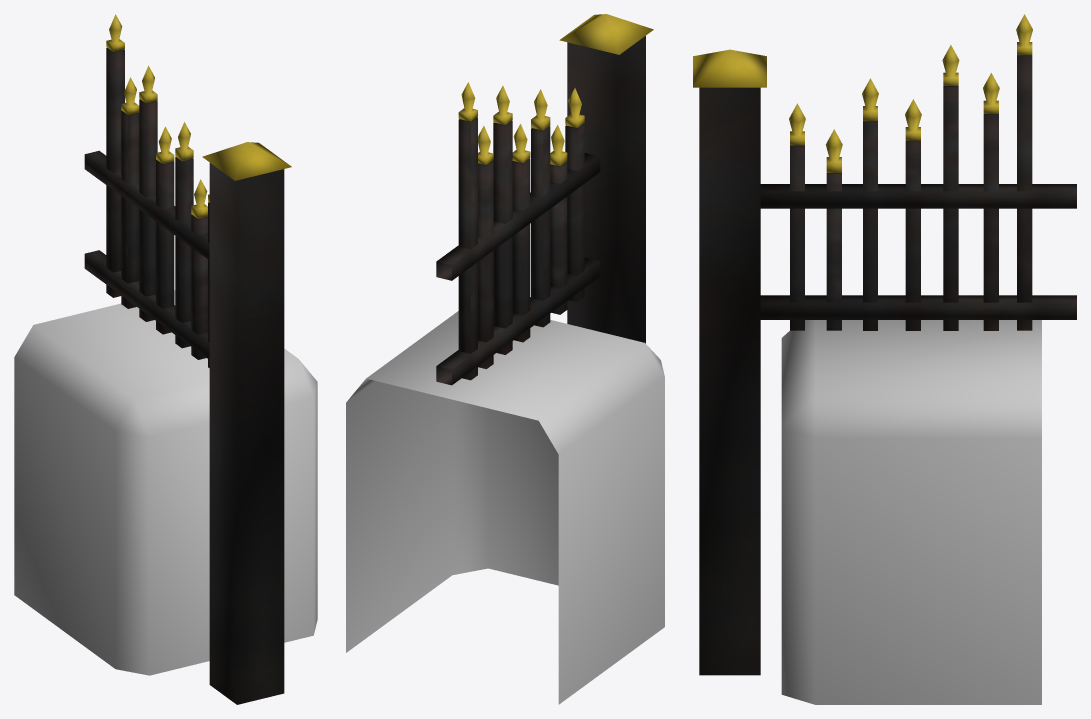
Rendered from StoneMetalWall1.fbx.
3 views of the same model, side by side, from view 1: azimuth 30°, elevation 25°; view 2: azimuth 150°, elevation 25°; view 3: azimuth 270°, elevation 25° (orthographic). The views are drawn at different scales.
Parts seen in each view (by area): view 1: StoneMetal_Corner; view 2: StoneMetal_Corner; view 3: StoneMetal_Corner.
Part boxes in pixels (<box>): StoneMetal_Corner: <box>14,14,317,704</box>; StoneMetal_Corner: <box>346,14,664,704</box>; StoneMetal_Corner: <box>693,14,1076,704</box>.
Size of the model in its own units: 427 by 1168 by 627.
